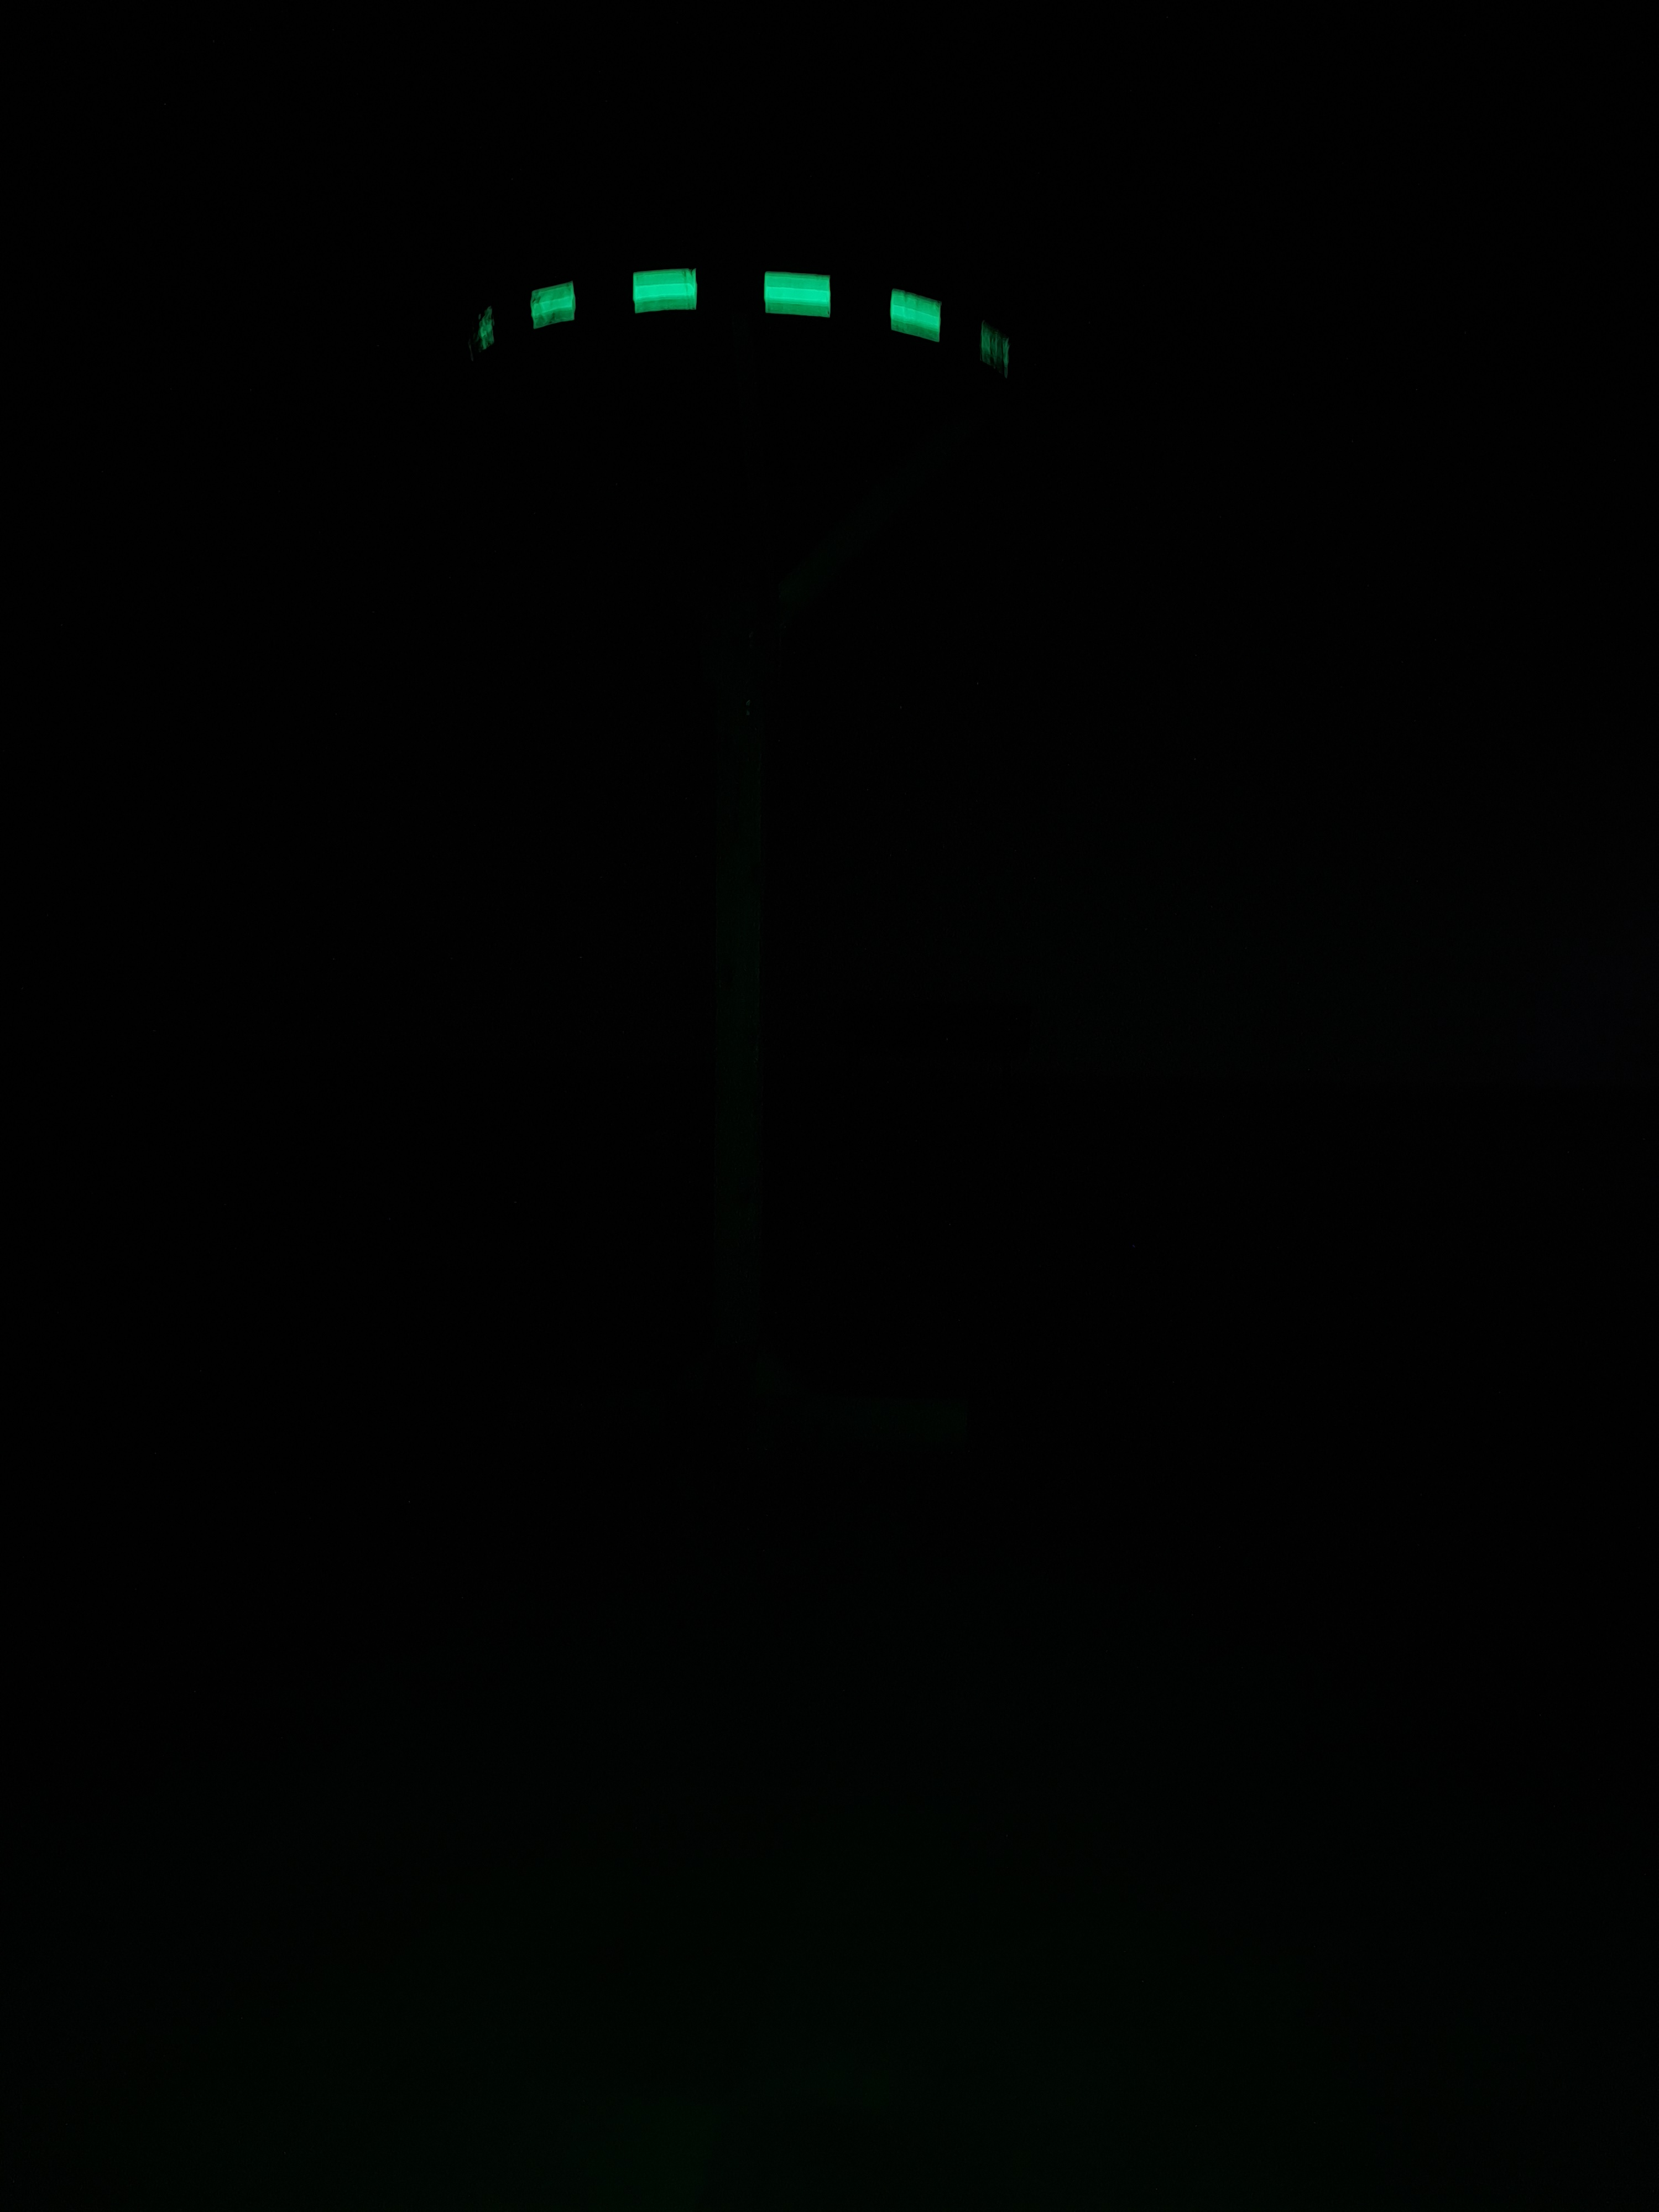hoop: (437, 251, 1032, 397)
